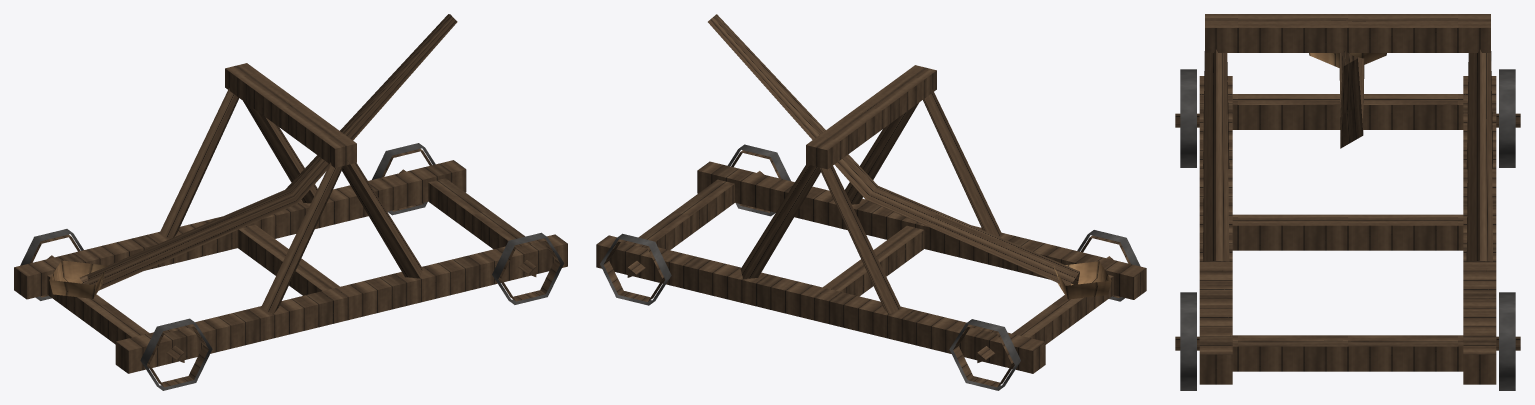
Rendered from Catapult_1_LOD2.gltf.
The picture shows the model from 3 angles, left to right: view 1: azimuth 30°, elevation 25°; view 2: azimuth 150°, elevation 25°; view 3: azimuth 270°, elevation 25°; orthographic projection. The views are drawn at different scales.
Visible parts, largest first — view 1: Catapult_1_LOD2; view 2: Catapult_1_LOD2; view 3: Catapult_1_LOD2.
Boxes of the visible parts, left/top/right/bottom form: Catapult_1_LOD2: left=14, top=14, right=567, bottom=390; Catapult_1_LOD2: left=596, top=14, right=1146, bottom=390; Catapult_1_LOD2: left=1175, top=14, right=1520, bottom=390.
Size of the model in its own units: 6.3 by 3.2 by 3.14.
3 materials, 3 textured.
